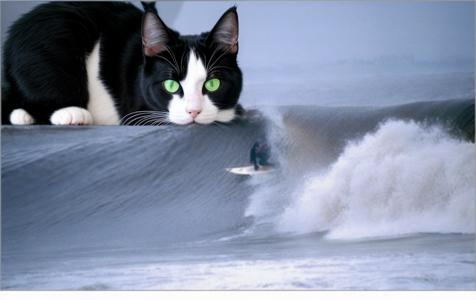cat: (1, 1, 243, 125)
person: (251, 141, 278, 172)
